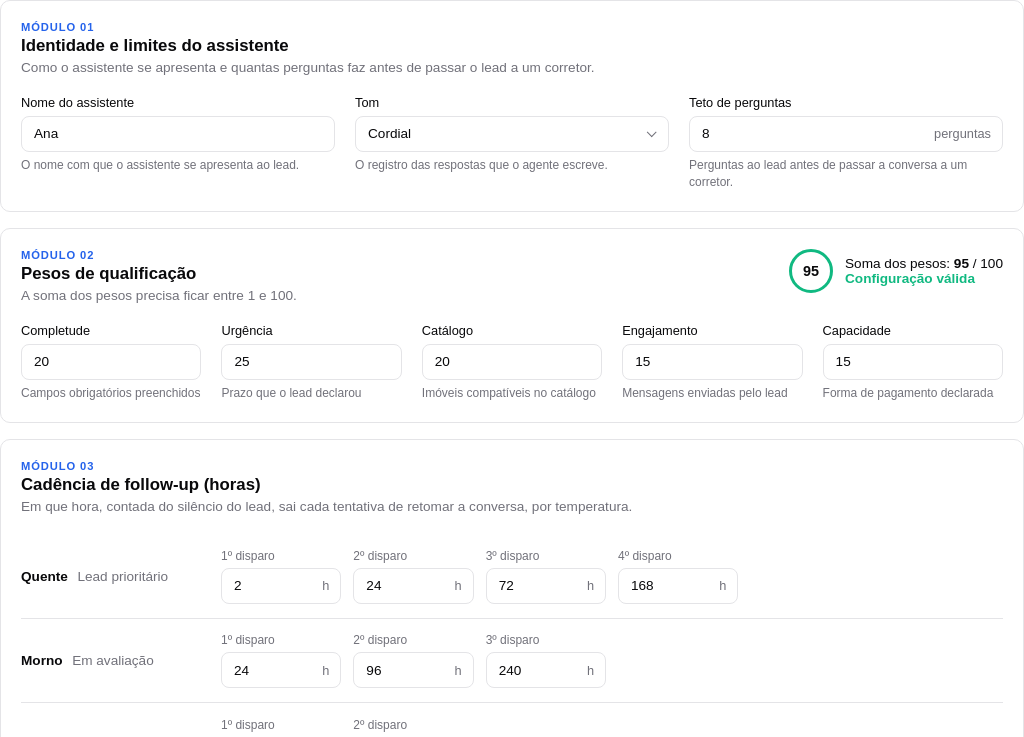
Test: FormularioDeConfiguracao › cenario: recusar valor fora da faixa (D2, cenario 2 do Gherkin) › a mesma recusa usa os limites passados por prop, nao um numero fixo
Replace the text in the number field named "Peso de urgência" with "80": [312, 362] box [221,344,402,380]
(page scrolled)
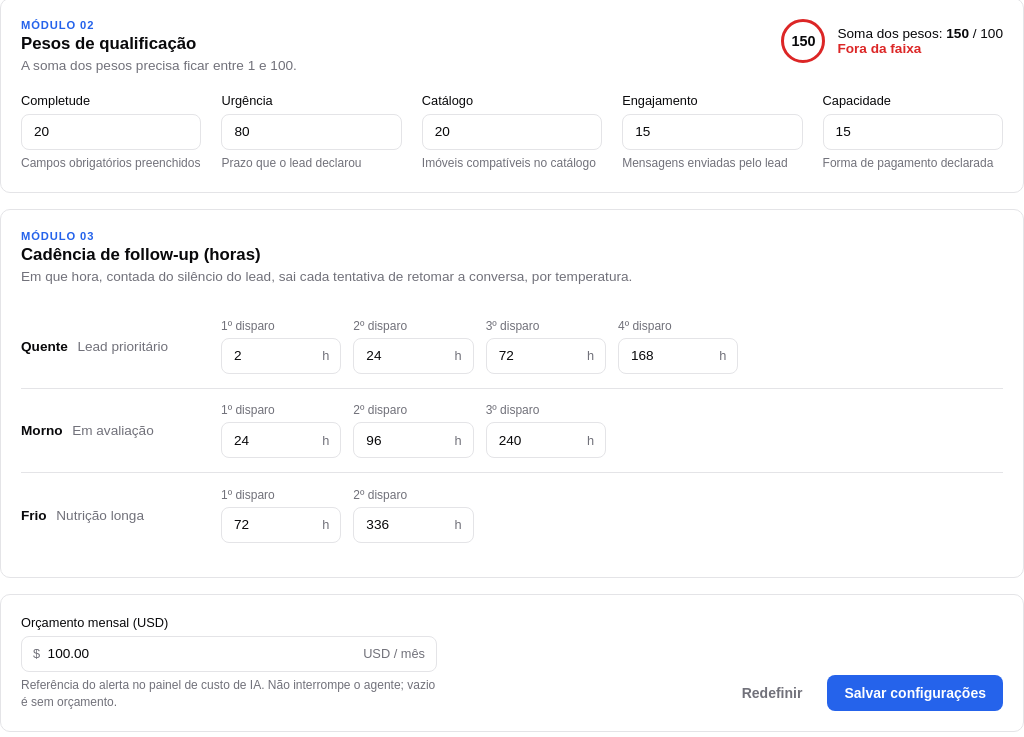
Click the button "Salvar configurações": [915, 693] box [827,675,1003,711]
(page scrolled)
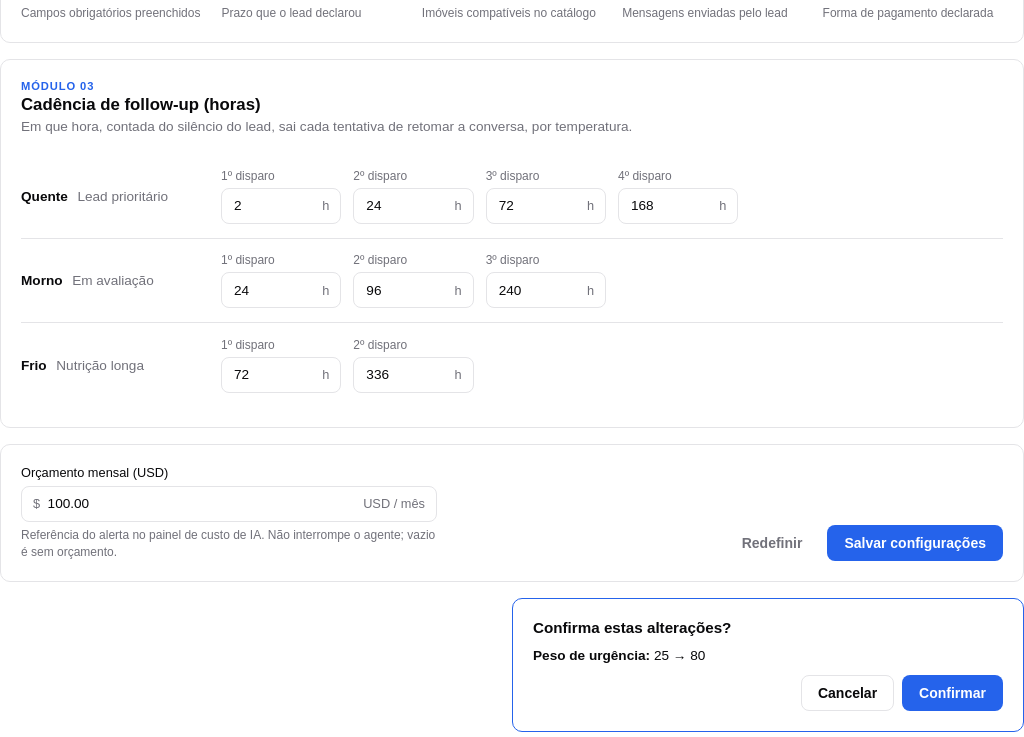
Now the dialog is shown, box [512,598,1023,732]
